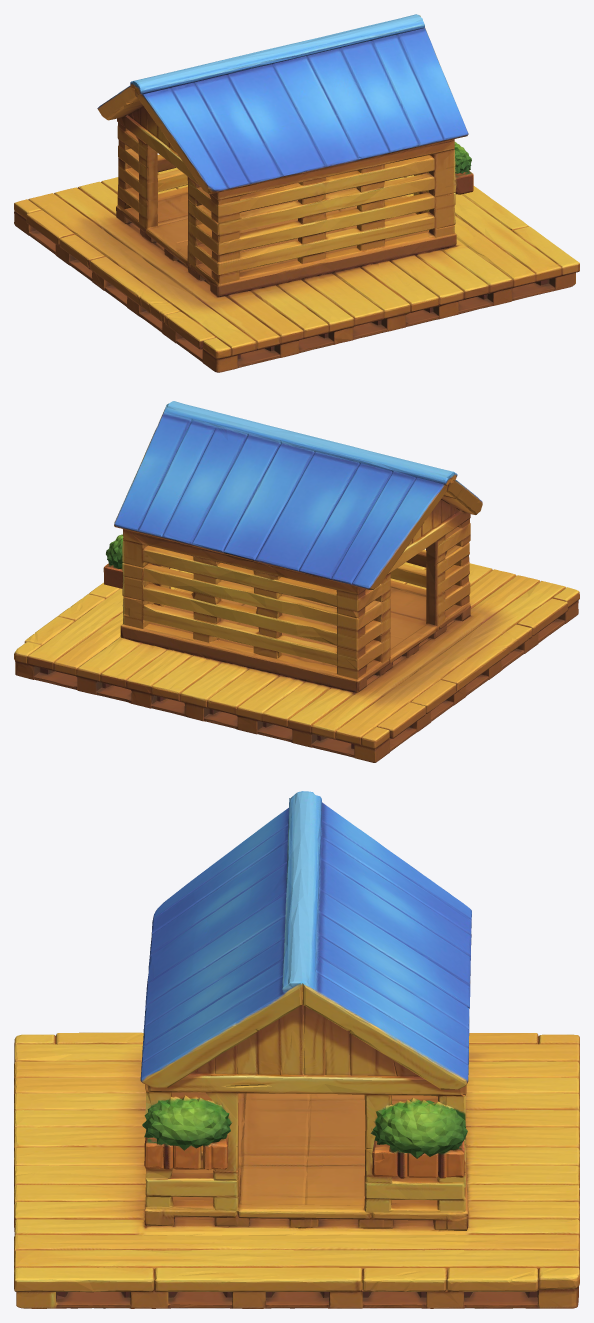
File: DOM_budka_9__second.glb
The picture shows the model from 3 angles, top to bottom: view 1: azimuth 30°, elevation 25°; view 2: azimuth 150°, elevation 25°; view 3: azimuth 270°, elevation 25°; orthographic projection. The views are drawn at different scales.
Parts seen in each view (by area): view 1: tripo_node_a098f968-8efe-4a23-b501-2c32e1a966ce; view 2: tripo_node_a098f968-8efe-4a23-b501-2c32e1a966ce; view 3: tripo_node_a098f968-8efe-4a23-b501-2c32e1a966ce.
Boxes of the visible parts, x1,y1,x2,y2 form: tripo_node_a098f968-8efe-4a23-b501-2c32e1a966ce: [14, 14, 579, 372]; tripo_node_a098f968-8efe-4a23-b501-2c32e1a966ce: [14, 401, 579, 762]; tripo_node_a098f968-8efe-4a23-b501-2c32e1a966ce: [14, 791, 579, 1308].
Size of the model in its own units: 0.9806 by 0.5364 by 0.9465.
Materials: 1 (1 with a texture image).
